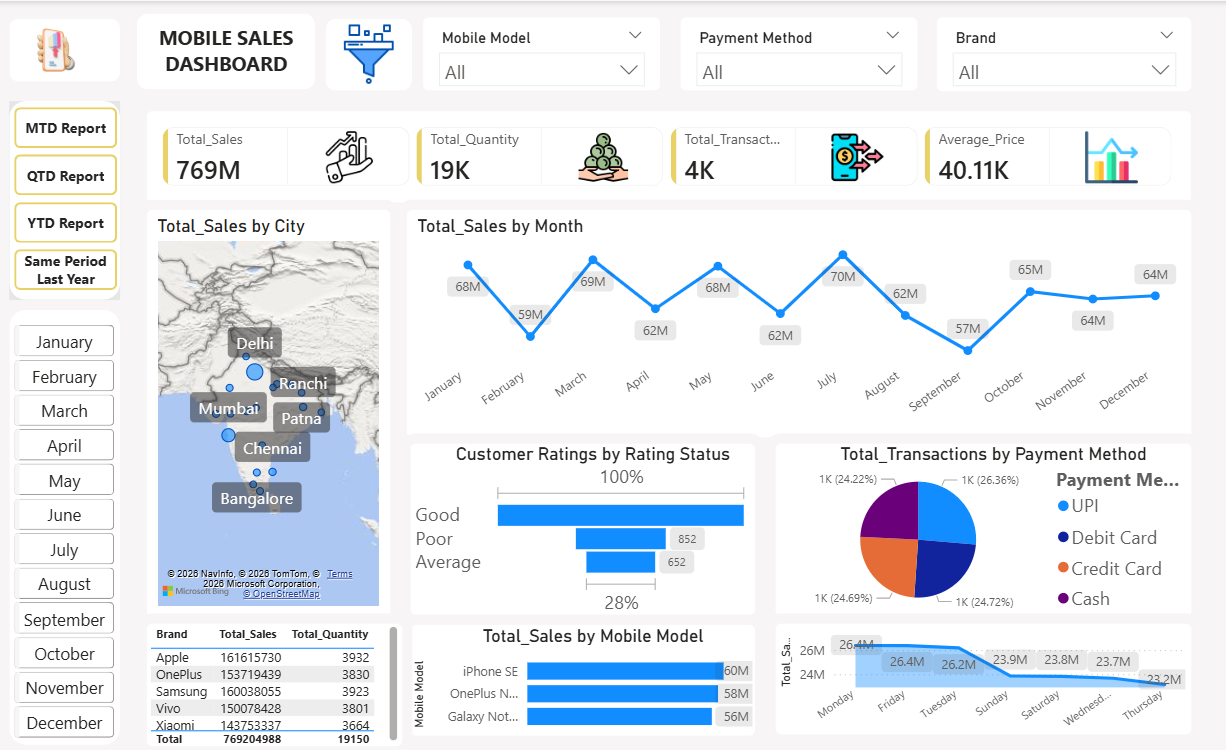

This screenshot's page, from the dashboard's own definition file:
{"tool":"powerbi","page":{"name":"Dashboard","canvas":[1280,720],"ordinal":0},"visuals":[{"type":"shape","box":[11,16.5,105.7,60.4],"z":0},{"type":"image","box":[17.8,23.3,75.5,45.3],"z":1000},{"type":"shape","box":[11,94.7,105.7,189.4],"z":2000},{"type":"shape","box":[11,293.7,105.7,414.4],"z":3000},{"type":"advancedSlicerVisual","fields":{"Values":["dim_calendar.Date.Variation.Date Hierarchy.Month"]},"box":[11,303.3,105.7,404.8],"z":4000},{"type":"cardVisual","fields":{"Data":["fact_sales_data.Total_Sales","fact_sales_data.Total_Quantity","fact_sales_data.Total_Transactions","fact_sales_data.Average_Price"]},"box":[132.5,95,1013.8,106.2],"z":5000},{"type":"slicer","fields":{"Values":["fact_sales_data.Mobile Model"]},"box":[395,6.2,245,88.8],"z":6000},{"type":"slicer","fields":{"Values":["fact_sales_data.Payment Method"]},"box":[640,6.2,245,88.8],"z":7000},{"type":"slicer","fields":{"Values":["fact_sales_data.Brand"]},"box":[884.5,6,261.9,89.3],"z":8000},{"type":"shape","box":[312.5,16.2,82.5,68.8],"z":9000},{"type":"image","box":[312.5,21.2,82.5,58.8],"z":10000},{"type":"shape","box":[132.5,12.5,170,72.5],"z":11000},{"type":"textbox","box":[142.5,16.2,148.8,63.8],"z":12000},{"type":"map","fields":{"Category":["fact_sales_data.City"],"Size":["fact_sales_data.Total_Sales"]},"box":[132.5,188.8,251.2,407.5],"z":13000},{"type":"lineChart","fields":{"Category":["dim_calendar.Date.Variation.Date Hierarchy.Month"],"Y":["fact_sales_data.Total_Sales"]},"box":[380,188.8,766.2,236.2],"z":14000},{"type":"funnel","title":"Customer Ratings by Rating Status","fields":{"Y":["CountNonNull(fact_sales_data.Customer Ratings)"],"Category":["fact_sales_data.Rating Status"]},"box":[383.8,412.5,347.5,182],"z":15000},{"type":"pieChart","fields":{"Y":["fact_sales_data.Total_Transactions"],"Category":["fact_sales_data.Payment Method"]},"box":[731.2,412.5,415,183.8],"z":16000},{"type":"clusteredBarChart","fields":{"Y":["fact_sales_data.Total_Sales"],"Category":["fact_sales_data.Mobile Model"]},"box":[383.8,584,347.5,125],"z":17000},{"type":"areaChart","fields":{"Y":["fact_sales_data.Total_Sales"],"Category":["dim_calendar.Day Name"]},"box":[731,583.3,415.5,125],"z":18000},{"type":"tableEx","fields":{"Values":["fact_sales_data.Brand","fact_sales_data.Total_Sales","fact_sales_data.Total_Quantity"]},"box":[132.5,583.8,262.5,136.2],"z":19000},{"type":"pageNavigator","box":[15,101.2,98.8,175],"z":19001}]}

Visuals, with their boxes on the page's 1280x720 design canvas (x1, y1, x2, y2). These are canvas units, not pixel positions in the 1226x750 screenshot, which may show the page scaled, cropped or inside an application window:
shape: <box>11,16,117,77</box>
image: <box>18,23,93,69</box>
shape: <box>11,95,117,284</box>
shape: <box>11,294,117,708</box>
advancedSlicerVisual - dim_calendar.Date.Variation.Date Hierarchy.Month: <box>11,303,117,708</box>
cardVisual - fact_sales_data.Total_Sales x fact_sales_data.Total_Quantity: <box>132,95,1146,201</box>
slicer - fact_sales_data.Mobile Model: <box>395,6,640,95</box>
slicer - fact_sales_data.Payment Method: <box>640,6,885,95</box>
slicer - fact_sales_data.Brand: <box>884,6,1146,95</box>
shape: <box>312,16,395,85</box>
image: <box>312,21,395,80</box>
shape: <box>132,12,302,85</box>
textbox: <box>142,16,291,80</box>
map - fact_sales_data.City x fact_sales_data.Total_Sales: <box>132,189,384,596</box>
lineChart - dim_calendar.Date.Variation.Date Hierarchy.Month x fact_sales_data.Total_Sales: <box>380,189,1146,425</box>
"Customer Ratings by Rating Status" funnel: <box>384,412,731,594</box>
pieChart - fact_sales_data.Total_Transactions x fact_sales_data.Payment Method: <box>731,412,1146,596</box>
clusteredBarChart - fact_sales_data.Total_Sales x fact_sales_data.Mobile Model: <box>384,584,731,709</box>
areaChart - fact_sales_data.Total_Sales x dim_calendar.Day Name: <box>731,583,1146,708</box>
tableEx - fact_sales_data.Brand x fact_sales_data.Total_Sales: <box>132,584,395,720</box>
pageNavigator: <box>15,101,114,276</box>
